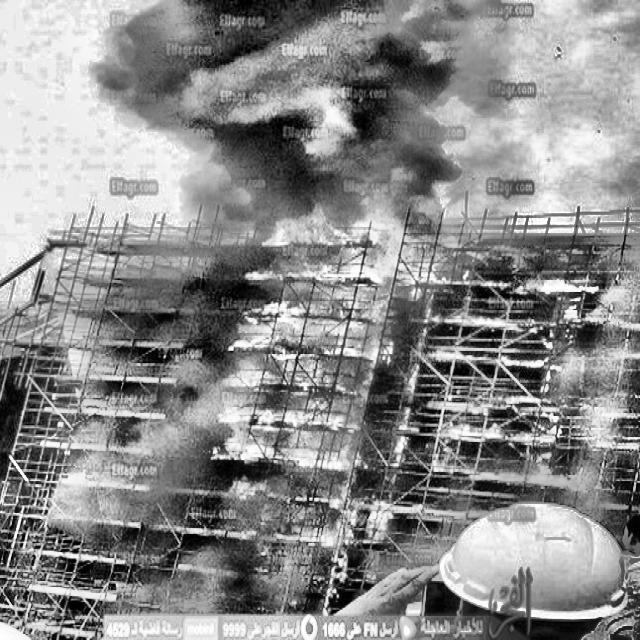fire: (168, 27, 508, 639)
